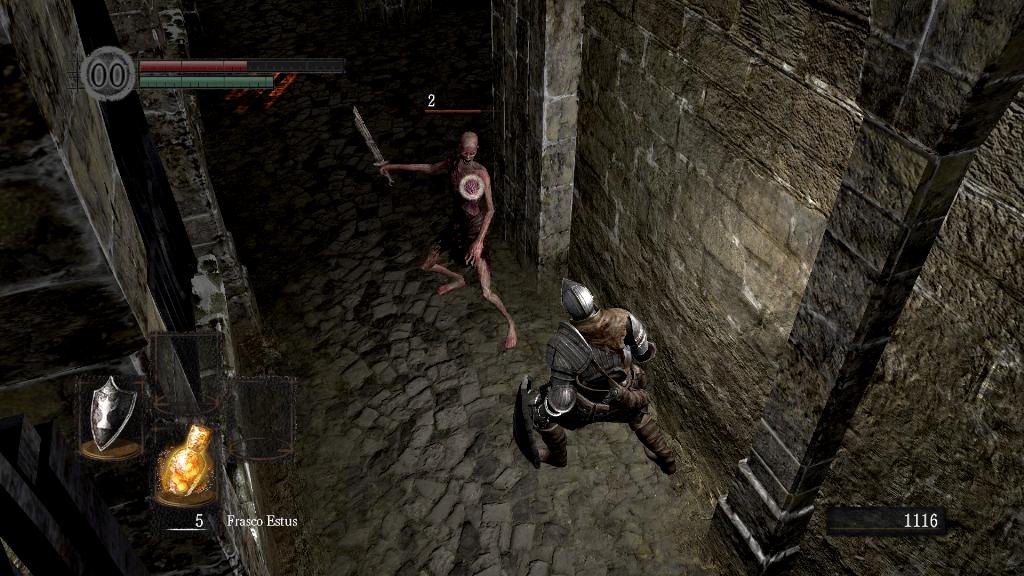health: (138, 58, 343, 71)
hollow: (376, 127, 517, 348)
humanity: (80, 45, 136, 102)
player: (511, 276, 682, 482)
souls: (825, 506, 945, 536)
stamina: (138, 74, 274, 88)
